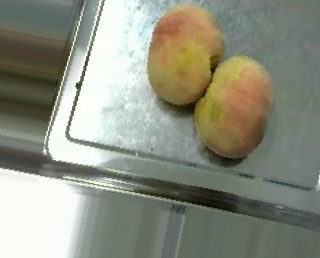Peach: (194, 54, 274, 160), (146, 4, 223, 106)
